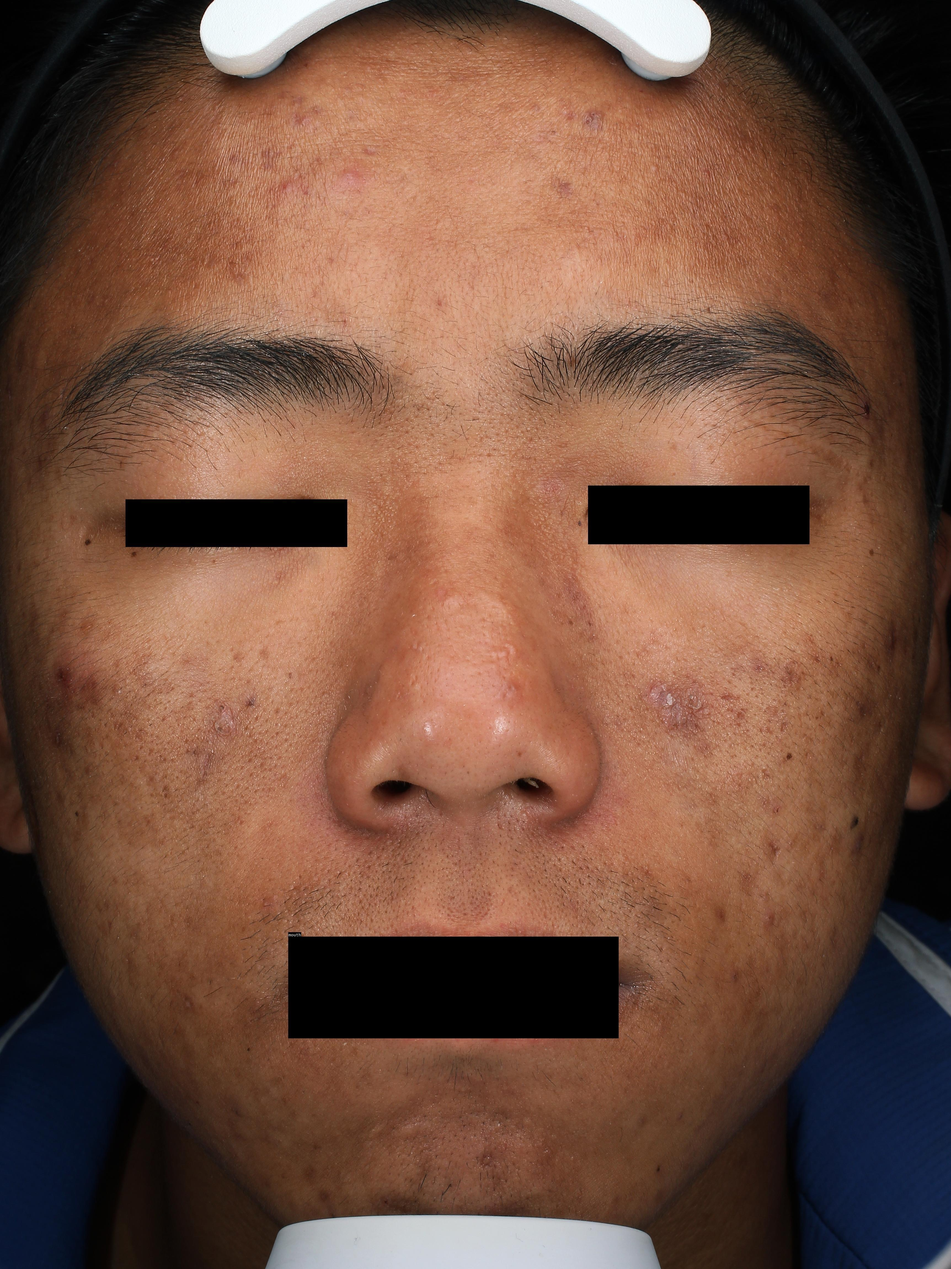atrophic_scar: (851, 725, 883, 805), (199, 753, 213, 781), (768, 843, 781, 862), (133, 727, 148, 742), (361, 146, 380, 157), (479, 1155, 493, 1169), (145, 773, 158, 787), (501, 645, 513, 658), (496, 817, 505, 833), (734, 710, 747, 721), (764, 723, 775, 735), (506, 885, 517, 897), (648, 636, 659, 647), (277, 770, 288, 781), (185, 996, 195, 1008), (112, 721, 124, 731), (555, 442, 567, 450), (718, 695, 731, 702), (761, 767, 770, 777), (182, 735, 190, 746), (187, 692, 198, 699), (542, 909, 548, 921), (639, 644, 647, 653), (167, 814, 179, 820), (90, 710, 97, 720), (235, 782, 243, 790), (502, 691, 509, 700), (734, 721, 743, 728), (162, 784, 169, 793), (414, 641, 421, 650), (484, 451, 494, 457), (343, 317, 348, 329), (98, 740, 104, 750), (635, 652, 642, 660), (486, 1153, 494, 1160), (409, 678, 415, 687), (476, 670, 483, 677), (134, 755, 140, 763), (238, 819, 245, 825), (665, 644, 672, 650), (161, 716, 167, 722), (415, 674, 419, 683), (164, 793, 169, 798), (138, 745, 143, 750)
closed_comedo: (651, 163, 660, 172), (524, 900, 531, 907), (149, 257, 157, 263), (201, 258, 209, 264), (634, 922, 640, 929), (262, 902, 268, 907), (76, 247, 82, 252), (461, 1086, 466, 1092), (570, 1155, 575, 1160), (544, 1149, 549, 1154), (585, 228, 590, 233), (496, 1123, 500, 1129), (345, 871, 349, 876), (695, 584, 698, 588)
hypertrophic_scar: (468, 589, 520, 627), (391, 1119, 435, 1140), (265, 1130, 293, 1151), (369, 1121, 388, 1138), (520, 1116, 532, 1127)
melasma: (670, 439, 678, 451), (274, 620, 287, 626), (669, 472, 678, 476)
nevus: (849, 812, 860, 829), (861, 400, 872, 417), (247, 695, 258, 707), (786, 752, 794, 760), (84, 538, 92, 546), (868, 548, 875, 557), (130, 551, 138, 558), (706, 306, 713, 314), (74, 809, 79, 819), (577, 519, 582, 527), (655, 1166, 661, 1172), (245, 1046, 250, 1052), (212, 559, 216, 563)
open_comedo: (217, 703, 227, 712), (114, 689, 122, 695), (301, 1090, 306, 1095)
papule: (341, 170, 360, 185), (586, 111, 602, 127), (761, 911, 776, 924), (279, 180, 293, 193), (296, 114, 309, 125), (560, 106, 571, 118), (433, 586, 445, 597), (509, 683, 516, 690), (410, 644, 415, 649)
